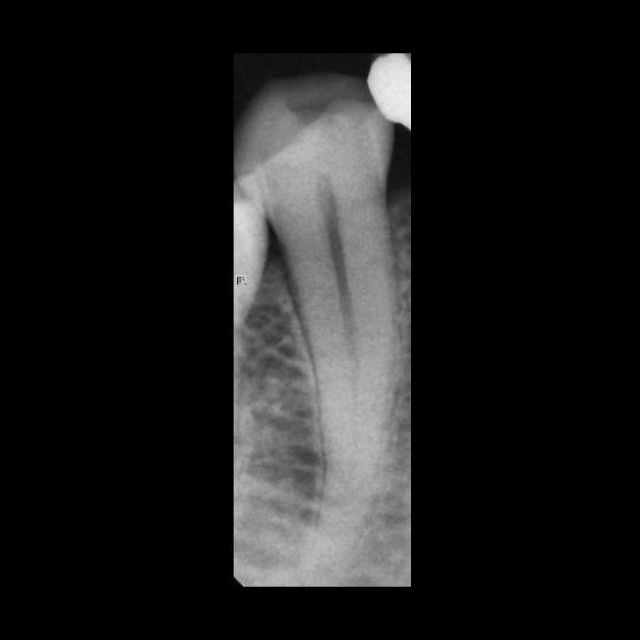tooth: (232, 66, 396, 575)
